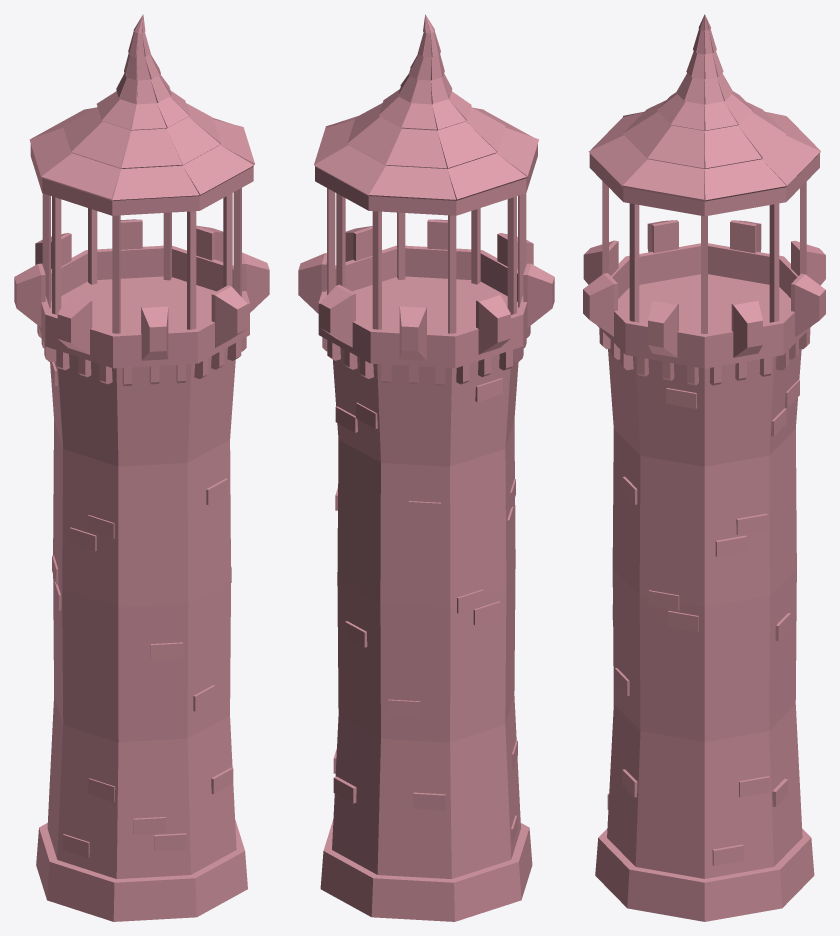
Rendered from Mega_Asset_s_Pack_Cylinder_024.FBX.
3 renders of one model, left to right at view 1: azimuth 30°, elevation 25°; view 2: azimuth 150°, elevation 25°; view 3: azimuth 270°, elevation 25°, orthographic.
Parts seen in each view (by area): view 1: Mega_Asset_s_Pack_Cylinder_024; view 2: Mega_Asset_s_Pack_Cylinder_024; view 3: Mega_Asset_s_Pack_Cylinder_024.
Part boxes in pixels (left/top/right/bottom): Mega_Asset_s_Pack_Cylinder_024: left=14, top=14, right=269, bottom=921; Mega_Asset_s_Pack_Cylinder_024: left=298, top=14, right=554, bottom=921; Mega_Asset_s_Pack_Cylinder_024: left=583, top=14, right=825, bottom=921.
Size of what is drawn, in the model's own units: 1063 by 1065 by 4173.
